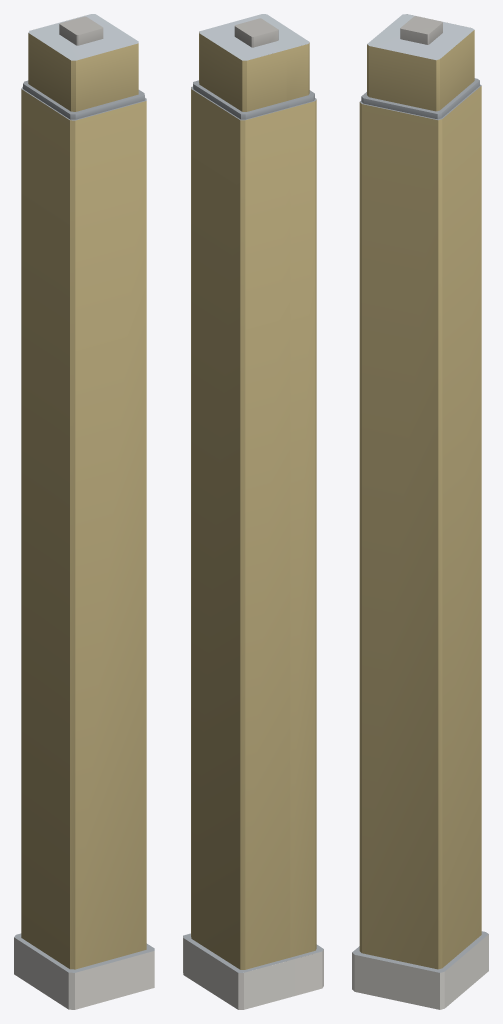
Rendered from tower_02.glb.
The picture shows the model from 3 angles, left to right: view 1: azimuth 30°, elevation 25°; view 2: azimuth 210°, elevation 25°; view 3: azimuth 330°, elevation 25°; orthographic projection.
Parts seen in each view (by area): view 1: tower_02; view 2: tower_02; view 3: tower_02.
Boxes of the visible parts, box(x1,y1,x2,y2) form: tower_02: box(14, 14, 154, 1009); tower_02: box(183, 14, 323, 1009); tower_02: box(352, 14, 488, 1009).
Bounding box in the file's own units: 37.16 × 360 × 38.39.
